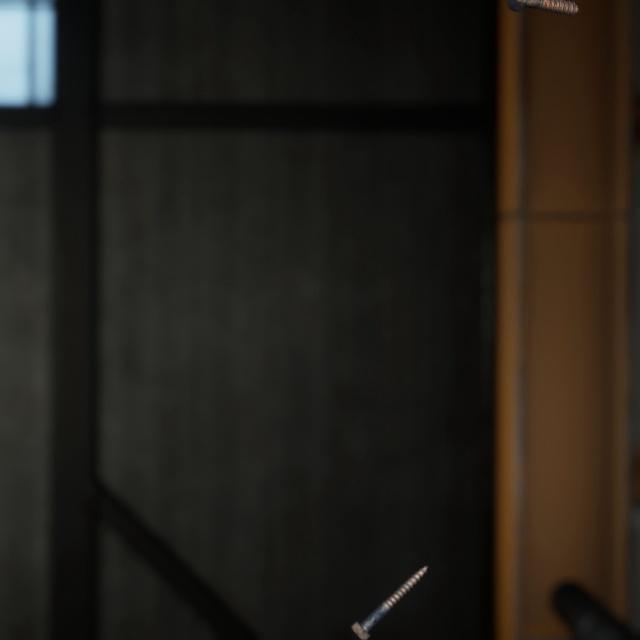bolt: (346, 538, 432, 623)
